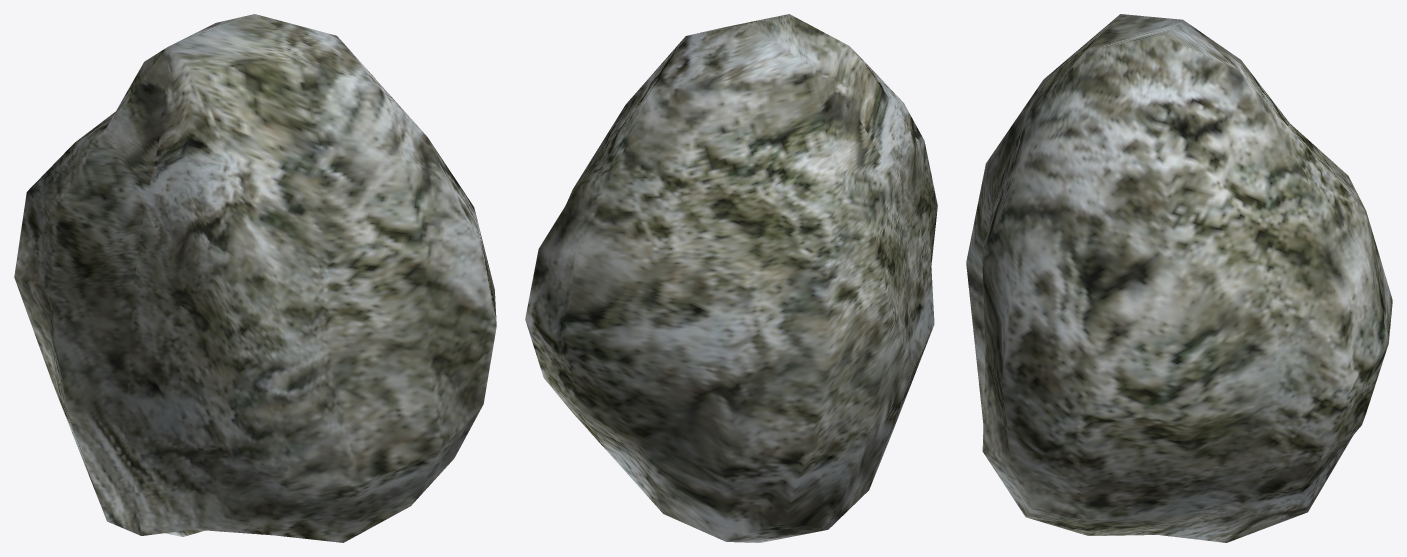
Rendered from meteorit_02.fbx.
The picture shows the model from 3 angles, left to right: view 1: azimuth 30°, elevation 25°; view 2: azimuth 150°, elevation 25°; view 3: azimuth 270°, elevation 25°; orthographic projection. The views are drawn at different scales.
Visible parts, largest first — view 1: pCube1; view 2: pCube1; view 3: pCube1.
Part boxes in pixels (<box>): pCube1: <box>14,14,496,542</box>; pCube1: <box>525,14,937,542</box>; pCube1: <box>966,14,1392,542</box>.
Bounding box in the file's own units: 148 × 198 × 149.
